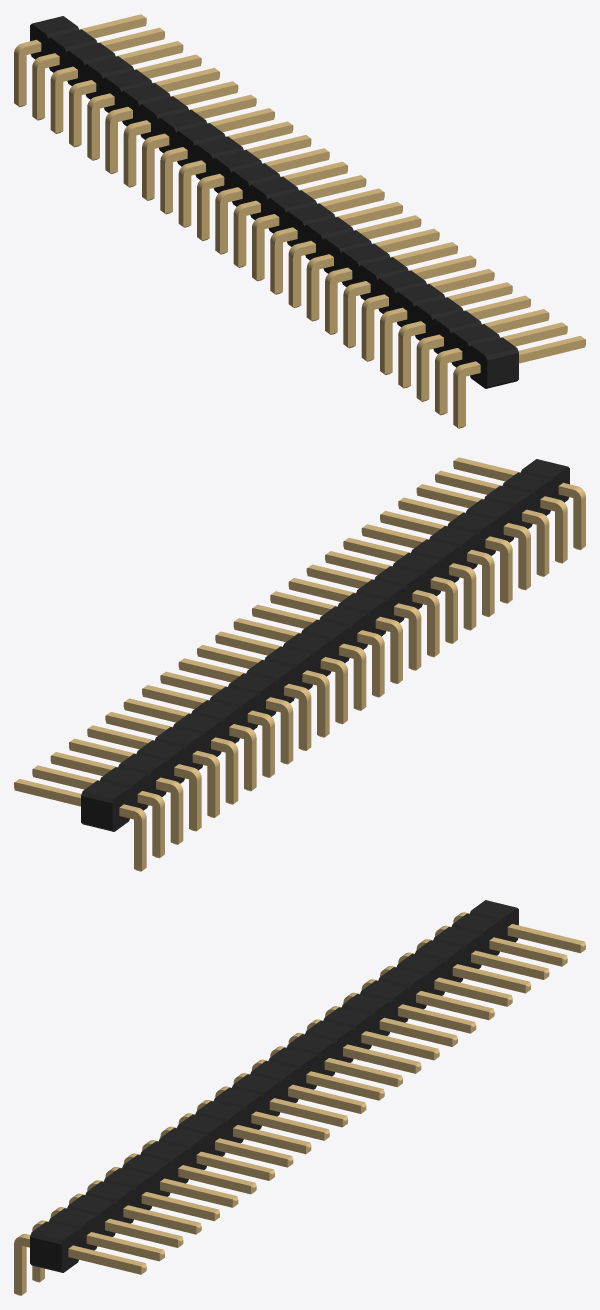
The model's file is kc-pinheader_1x25_p2.54mm_horizontal.glb.
3 renders of one model, top to bottom at view 1: azimuth 30°, elevation 25°; view 2: azimuth 150°, elevation 25°; view 3: azimuth 330°, elevation 25°, orthographic.
Parts seen in each view (by area): view 1: 0.75_0.5_0.25_0.9, 0_0_0_0; view 2: 0.75_0.5_0.25_0.9, 0_0_0_0; view 3: 0.75_0.5_0.25_0.9, 0_0_0_0.
Part boxes in pixels (box(x1,y1,x2,y2)): 0.75_0.5_0.25_0.9: box(14, 14, 585, 428); 0_0_0_0: box(30, 16, 518, 388); 0.75_0.5_0.25_0.9: box(14, 457, 585, 871); 0_0_0_0: box(81, 459, 569, 831); 0.75_0.5_0.25_0.9: box(14, 912, 585, 1295); 0_0_0_0: box(30, 900, 518, 1272).
Bounding box in the file's own units: 1.04 × 0.554 × 6.35.
